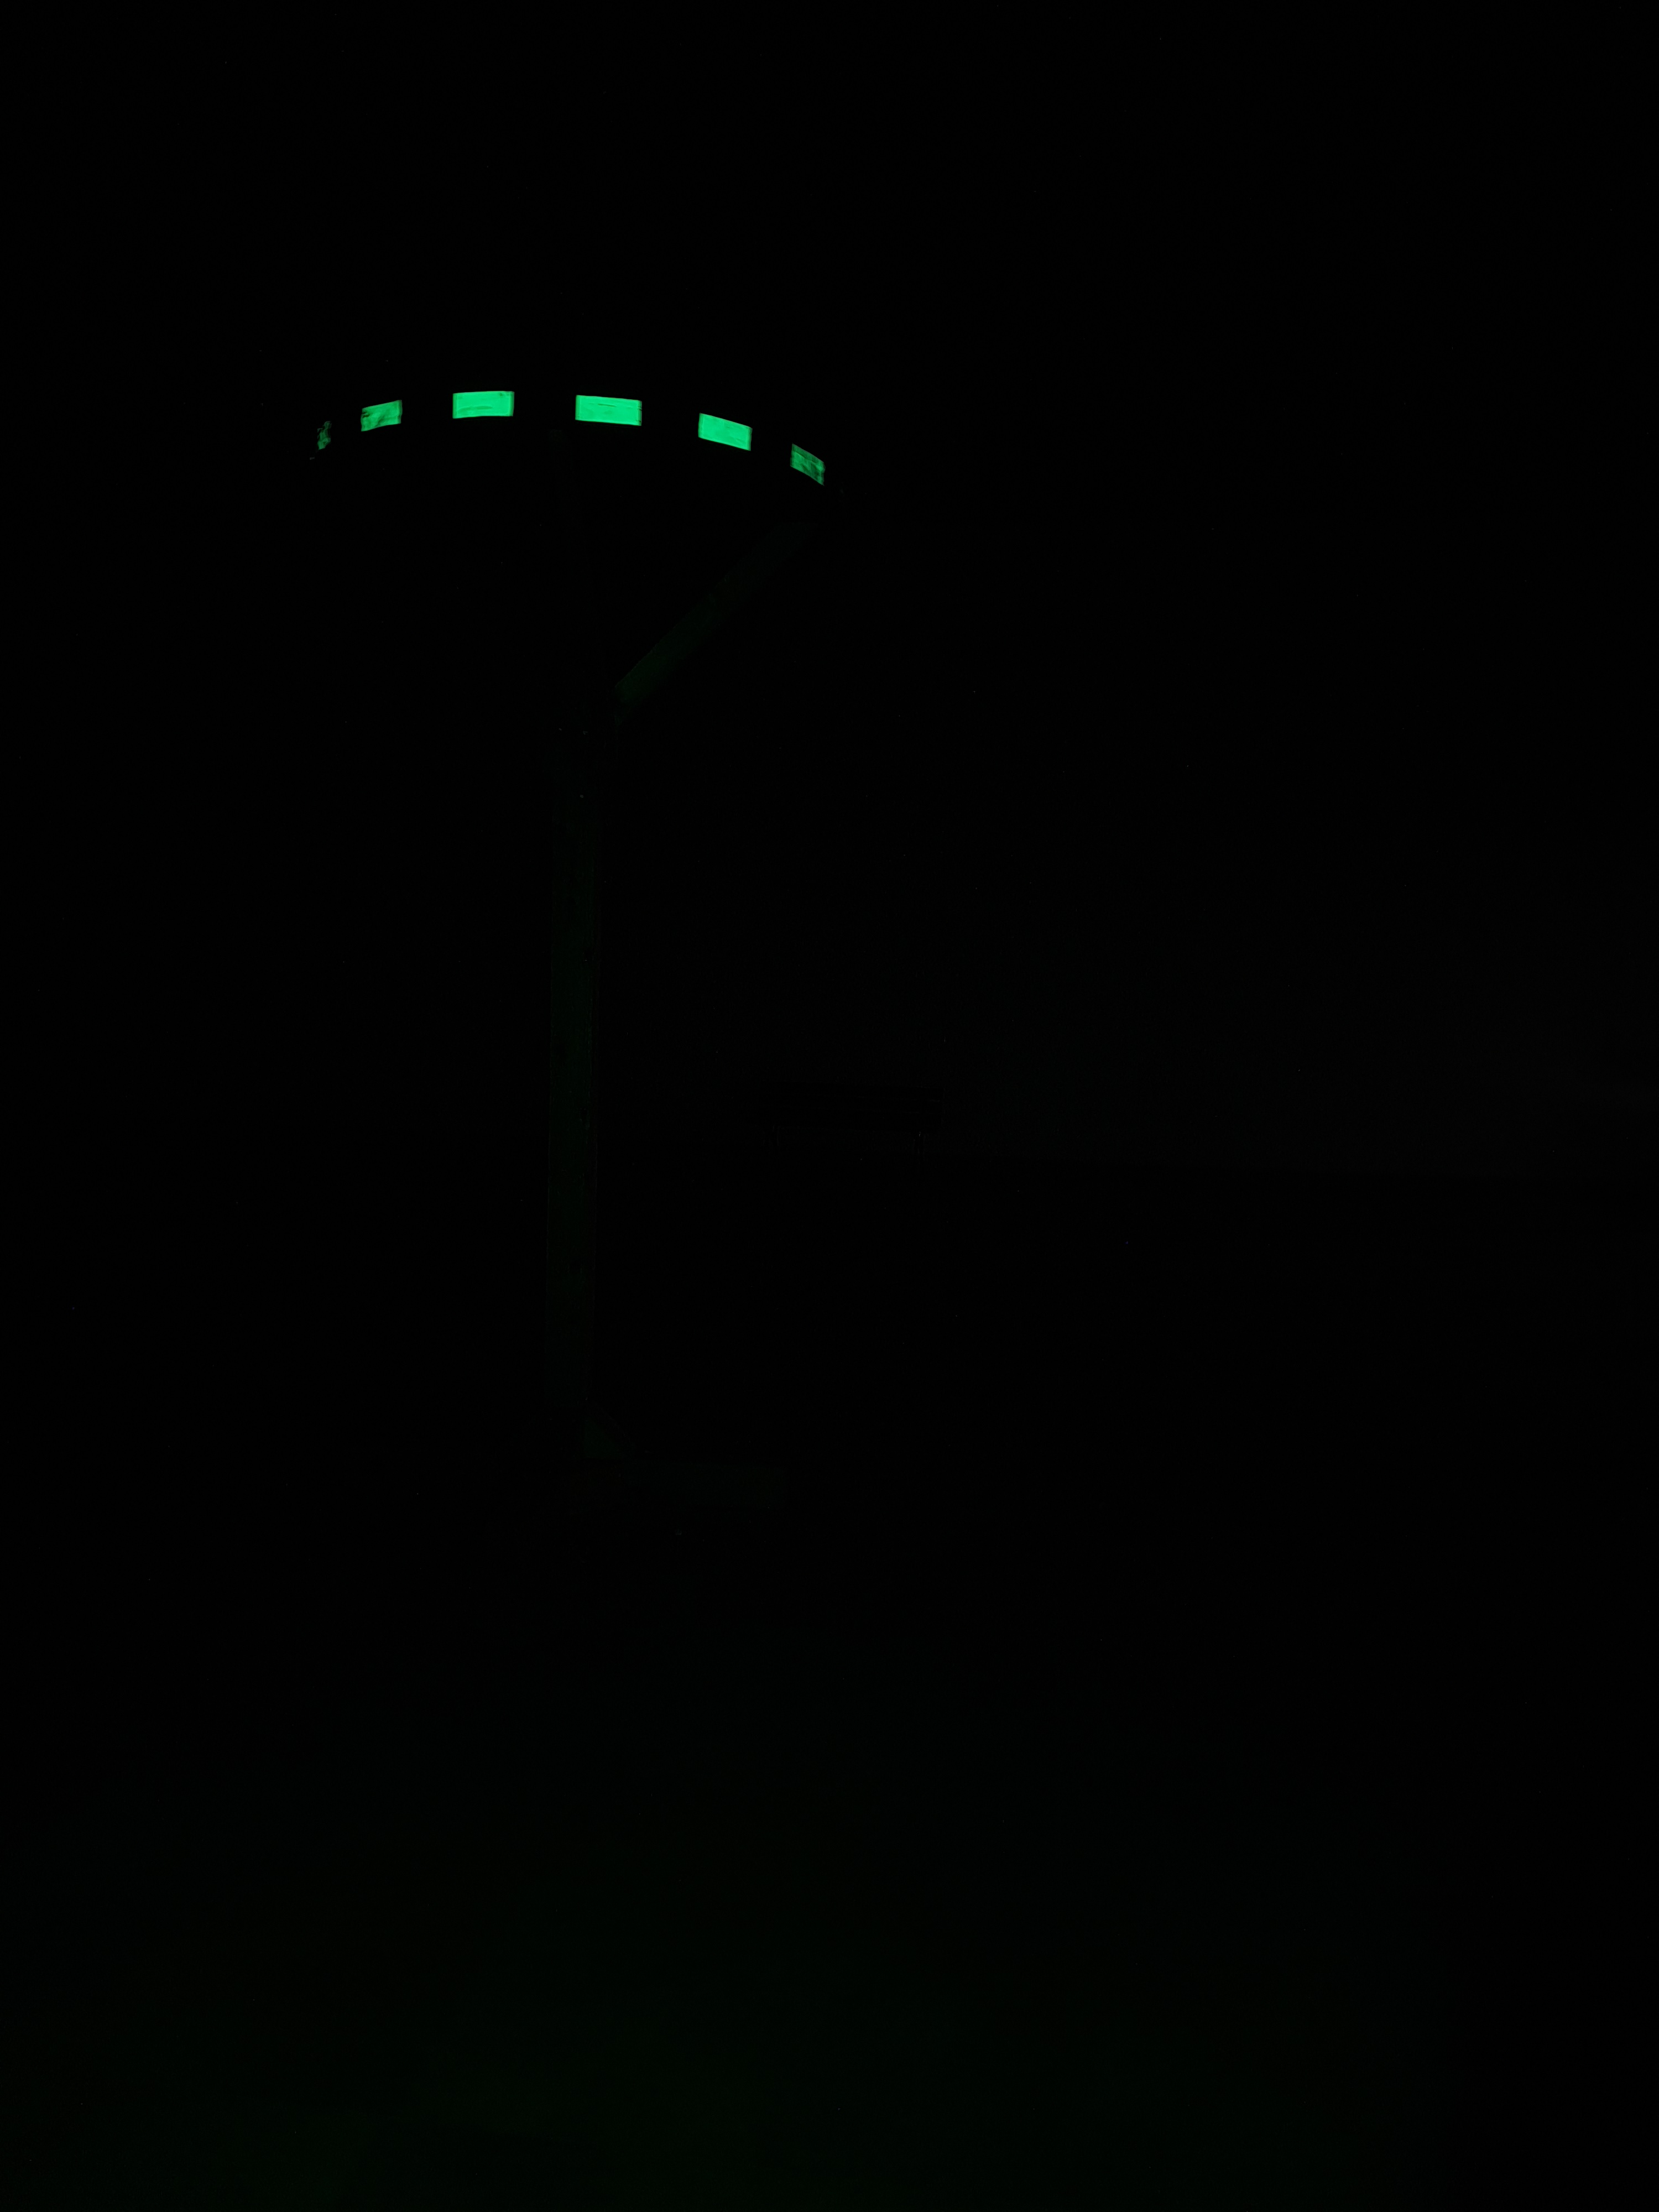hoop: (314, 383, 830, 489)
